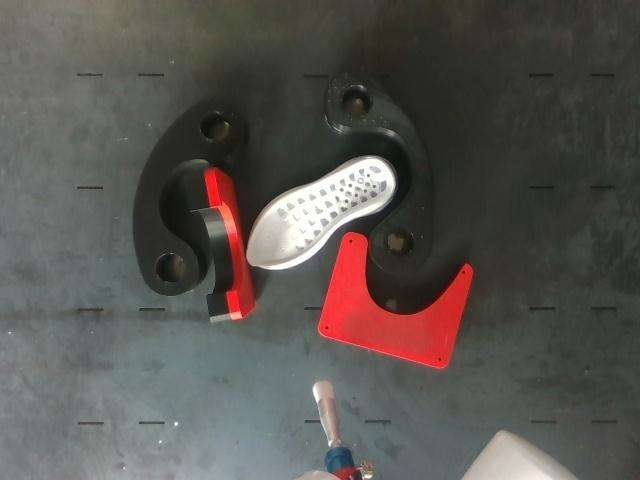shoes: (247, 160, 393, 266)
